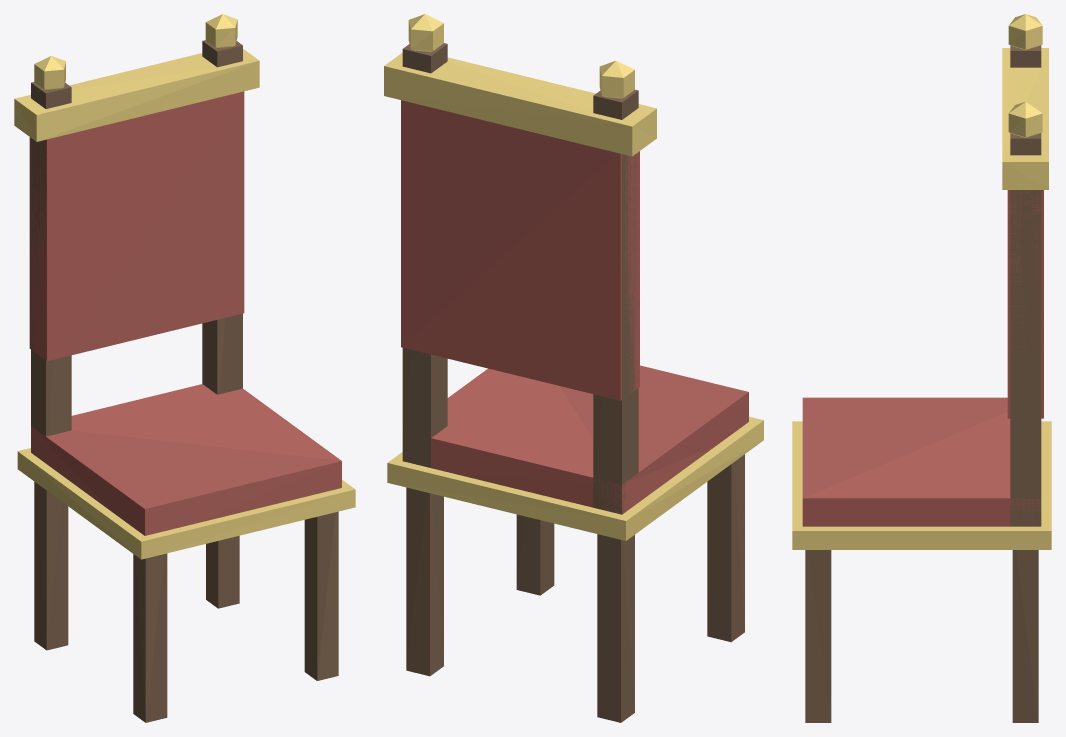
The model's file is fancy_chair.glb.
3 renders of one model, left to right at view 1: azimuth 30°, elevation 25°; view 2: azimuth 150°, elevation 25°; view 3: azimuth 270°, elevation 25°, orthographic. The views are drawn at different scales.
Visible parts, largest first — view 1: fancy_chair; view 2: fancy_chair; view 3: fancy_chair.
Part boxes in pixels (x1=…): fancy_chair: x1=14, y1=14, x2=355, y2=722; fancy_chair: x1=384, y1=14, x2=763, y2=722; fancy_chair: x1=792, y1=14, x2=1051, y2=722.
Size of the model in its own units: 0.52 by 1.31 by 0.5.
